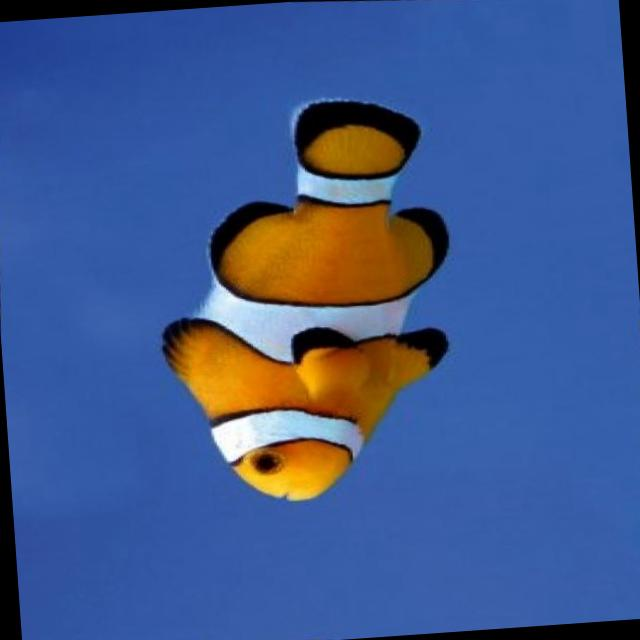ClownFish: (148, 87, 456, 506)
